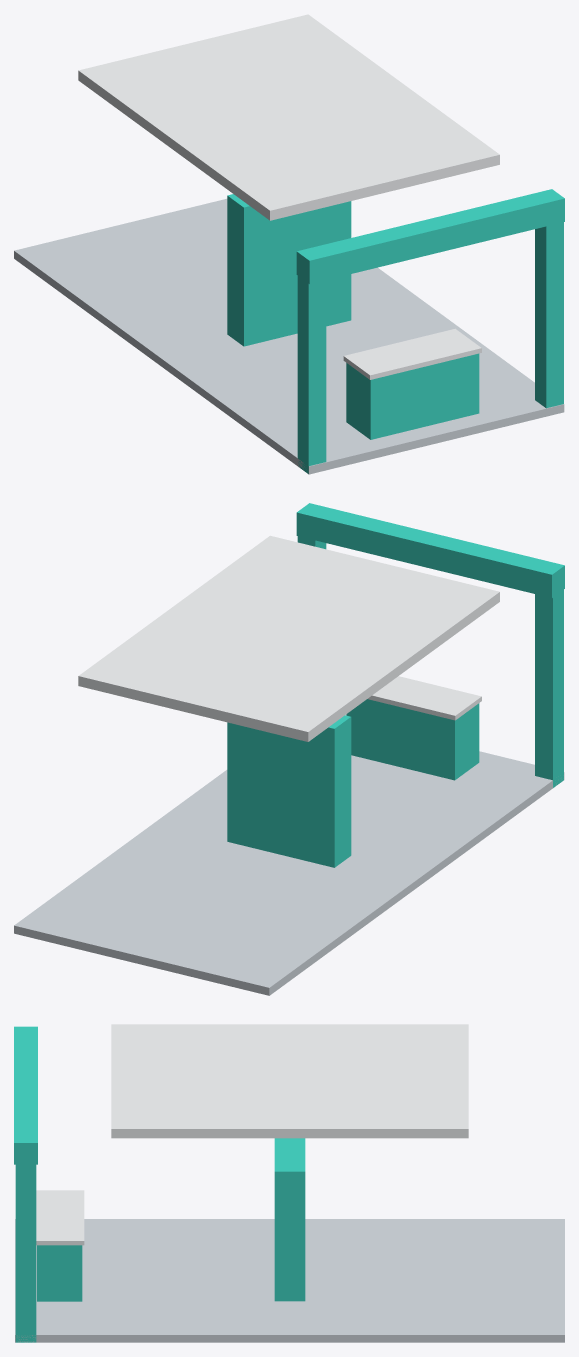
3 renders of one model, top to bottom at view 1: azimuth 30°, elevation 25°; view 2: azimuth 150°, elevation 25°; view 3: azimuth 270°, elevation 25°, orthographic. The views are drawn at different scales.
Parts seen in each view (by area): view 1: Exhibition Booth Concept; view 2: Exhibition Booth Concept; view 3: Exhibition Booth Concept.
Boxes of the visible parts, x1,y1,x2,y2 form: Exhibition Booth Concept: (14, 14, 564, 474); Exhibition Booth Concept: (14, 503, 564, 995); Exhibition Booth Concept: (14, 1024, 564, 1342).
Bounding box in the file's own units: 4 × 3.34 × 8.01.
